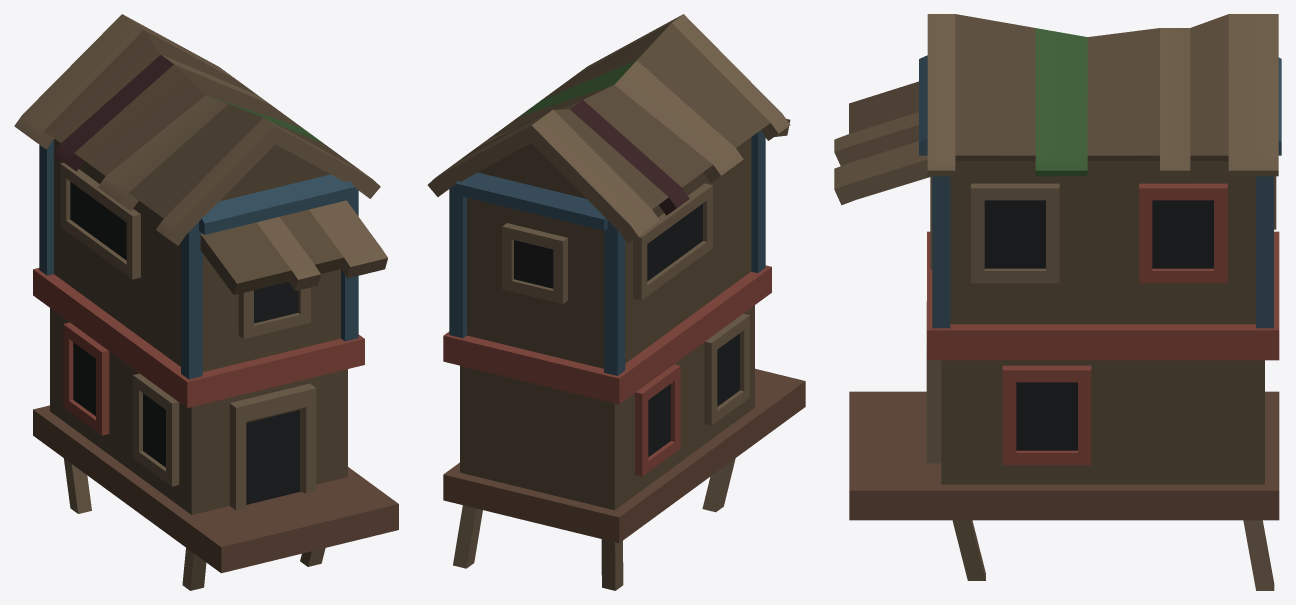
The model's file is SM_Bld_Pirate_Shack_02.glb.
3 renders of one model, left to right at view 1: azimuth 30°, elevation 25°; view 2: azimuth 150°, elevation 25°; view 3: azimuth 270°, elevation 25°, orthographic. The views are drawn at different scales.
Visible parts, largest first — view 1: SM_Bld_Pirate_Shack_02; view 2: SM_Bld_Pirate_Shack_02; view 3: SM_Bld_Pirate_Shack_02.
Part boxes in pixels (x1,y1,x2,y2): SM_Bld_Pirate_Shack_02: (14,14,398,590); SM_Bld_Pirate_Shack_02: (427,14,805,590); SM_Bld_Pirate_Shack_02: (834,14,1281,590).
Bounding box in the file's own units: 0.7697 × 1.61 × 1.23.
1 material, 1 textured.
